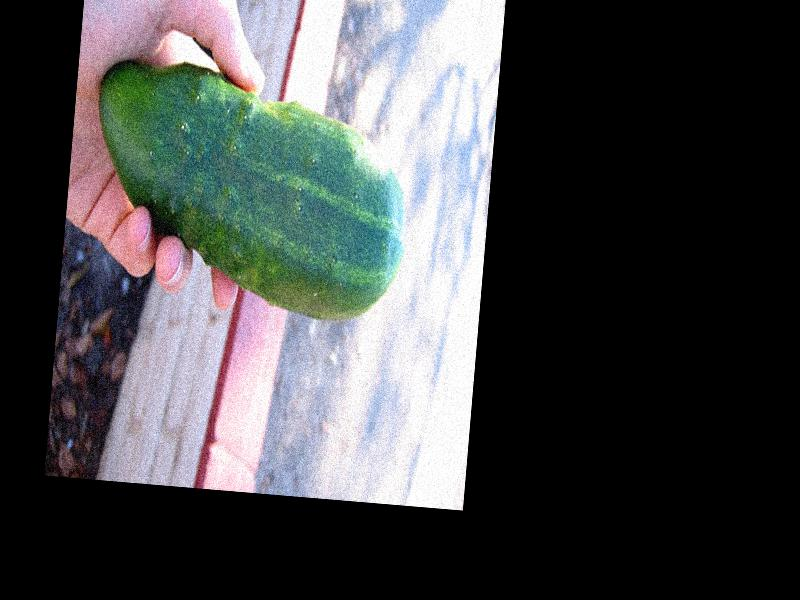Cucumber: (82, 58, 415, 328)
